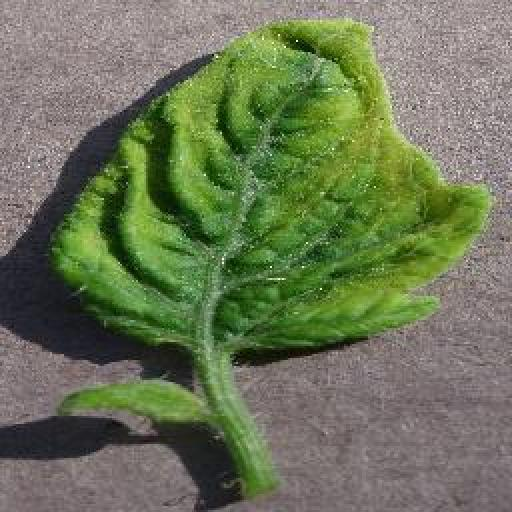disease_tomato: (54, 20, 491, 355)
